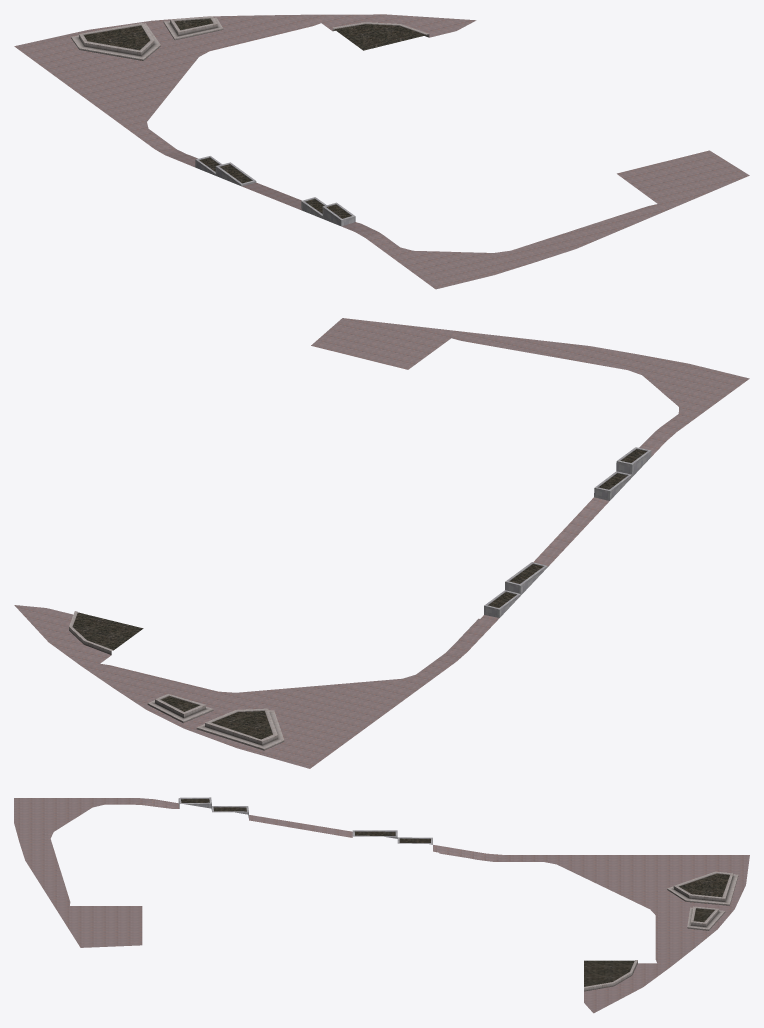
Rendered from lan2shit03.obj.
3 views of the same model, one above another, from view 1: azimuth 30°, elevation 25°; view 2: azimuth 150°, elevation 25°; view 3: azimuth 270°, elevation 25° (orthographic). The views are drawn at different scales.
Parts seen in each view (by area): view 1: lan2shit03; view 2: lan2shit03; view 3: lan2shit03.
Part boxes in pixels (x1=…): lan2shit03: x1=14, y1=14, x2=749, y2=289; lan2shit03: x1=14, y1=318, x2=749, y2=768; lan2shit03: x1=14, y1=797, x2=749, y2=1013.
Size of the model in its own units: 61.38 by 10.37 by 120.
